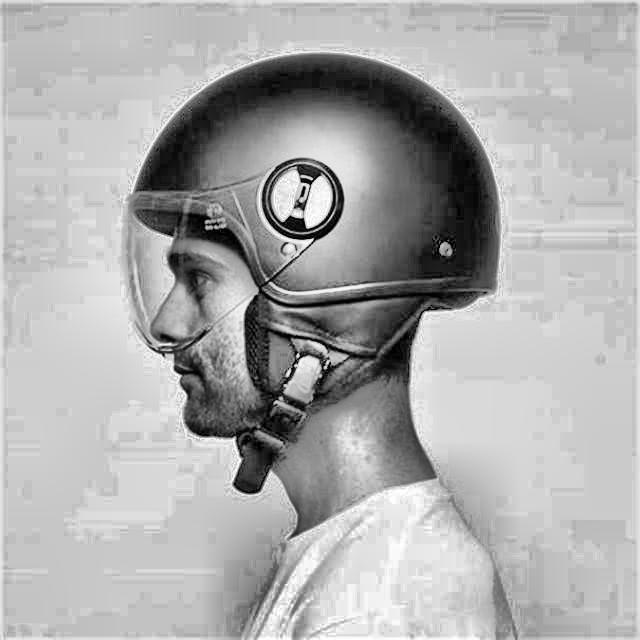Helmet: (112, 44, 510, 508)
